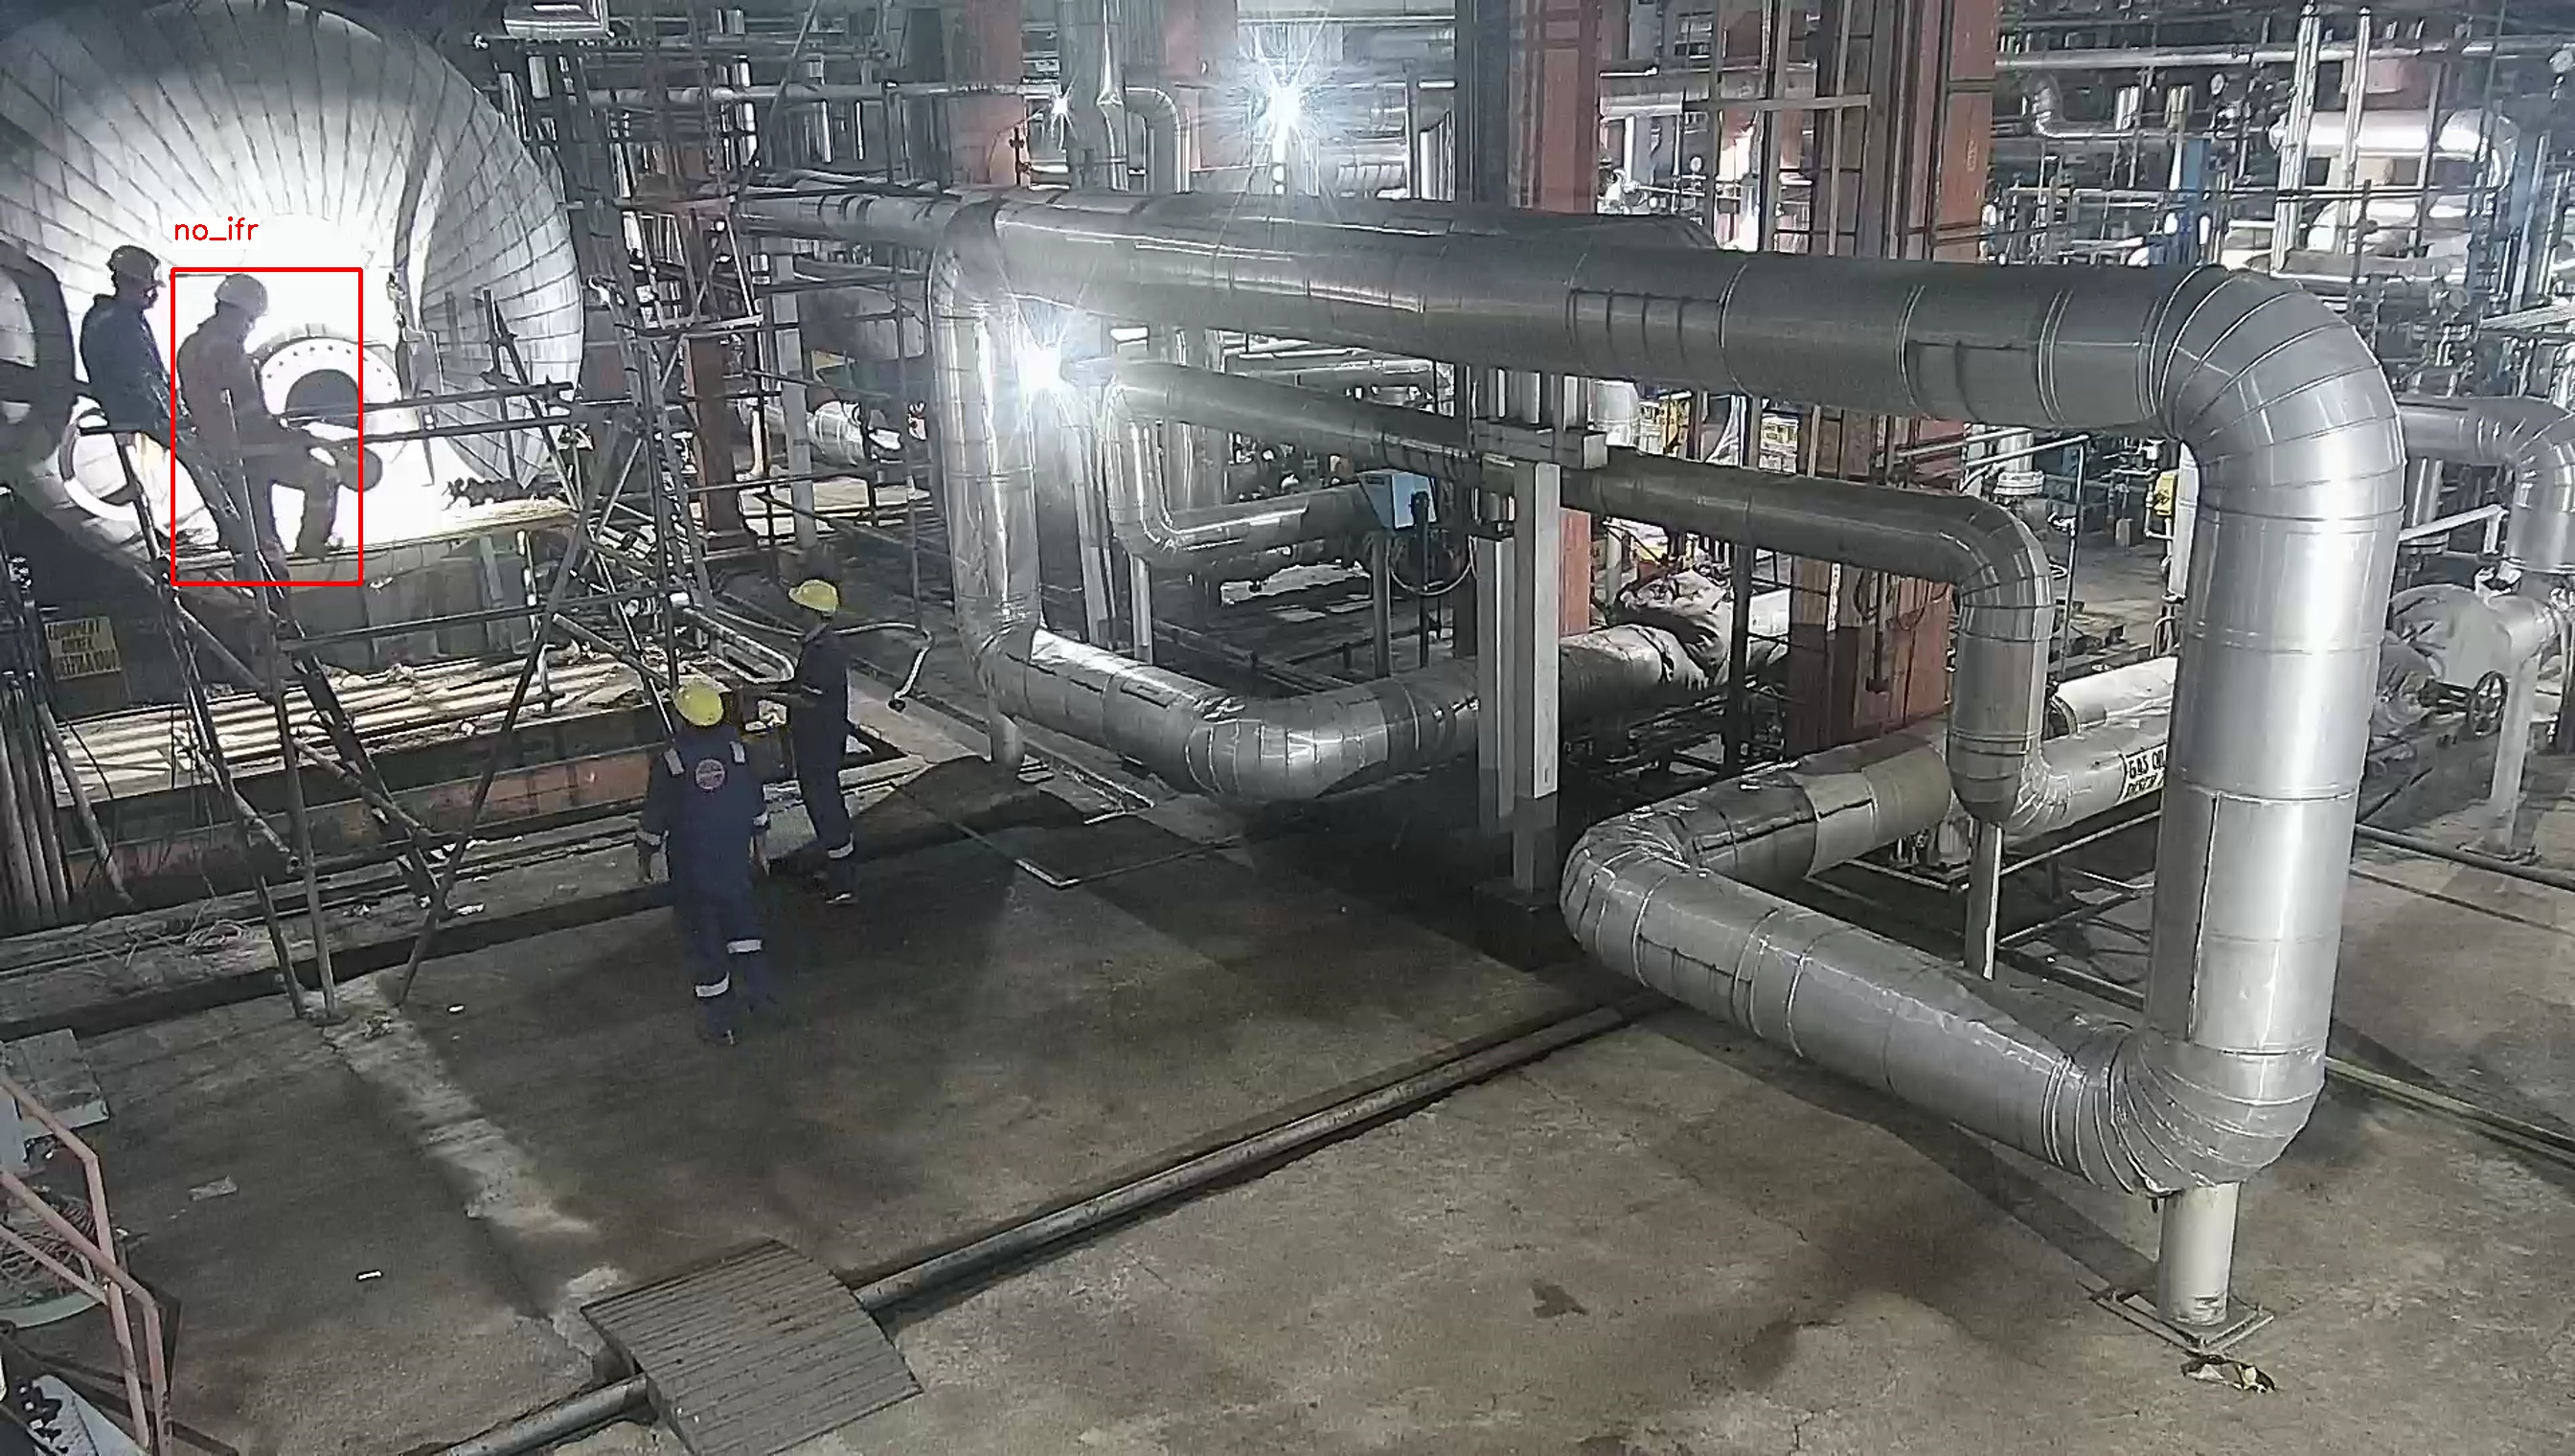Helmets: (778, 570, 851, 619), (669, 679, 727, 734)
IFR_Suit: (633, 741, 783, 1021), (780, 633, 865, 883)
